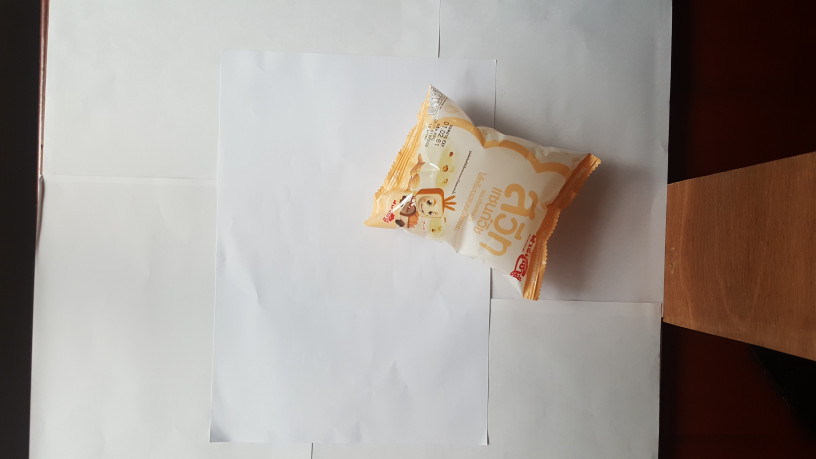farmhouse-sweetsandwich-almond: (361, 81, 607, 311)
